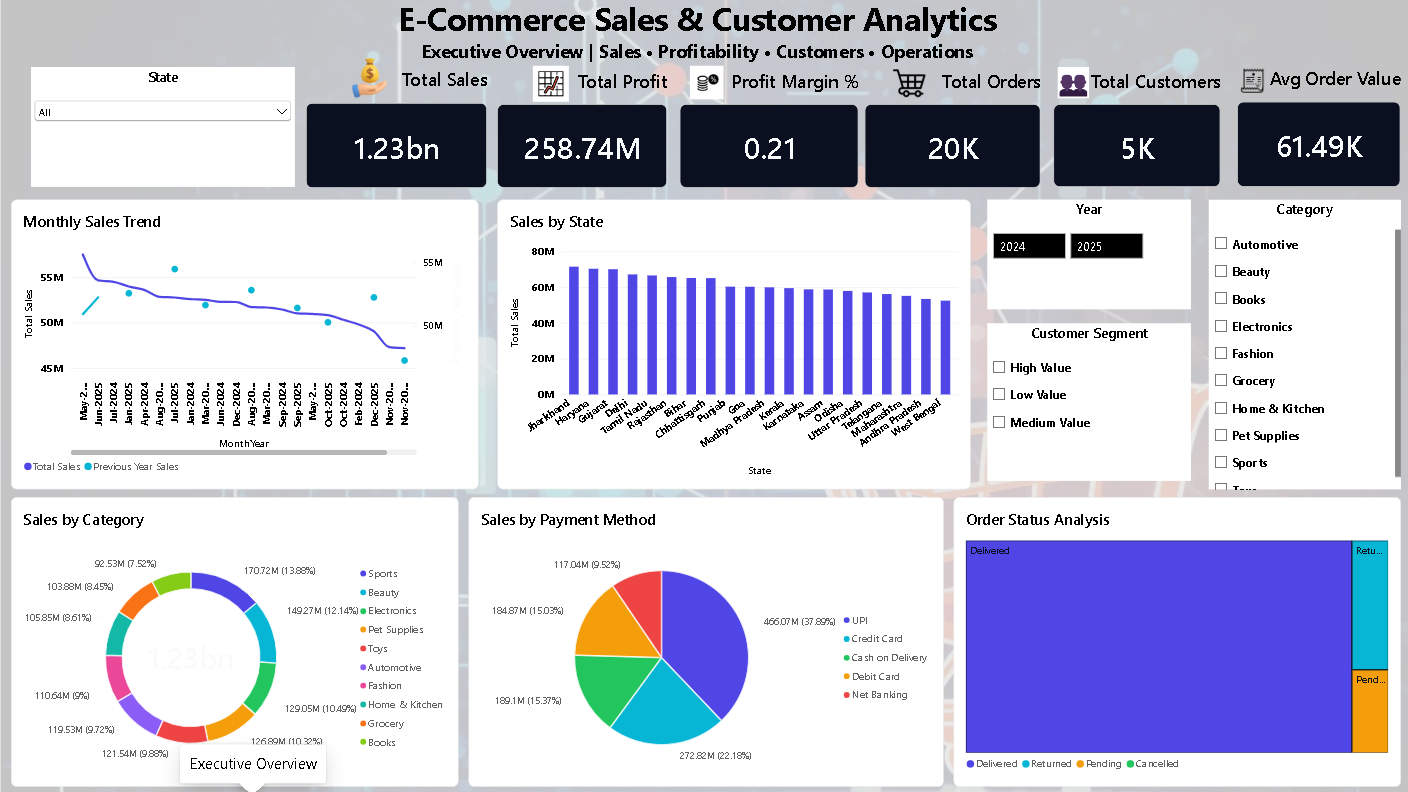

This screenshot's page, from the dashboard's own definition file:
{"tool":"powerbi","page":{"name":"Executive Overview","canvas":[1920,1080],"ordinal":0},"visuals":[{"type":"textbox","box":[116.9,0,1653.1,130.2],"z":0},{"type":"cardVisual","title":"Total Sales","fields":{"Data":["FactSales.Total Sales"]},"box":[413.3,94.8,245.6,164.3],"z":1000},{"type":"cardVisual","title":"Total Profit","fields":{"Data":["FactSales.Total Profit"]},"box":[672.4,96.5,230.3,162.6],"z":2000},{"type":"cardVisual","title":"Avg Order Value","fields":{"Data":["FactSales.Average Order Value"]},"box":[1675.1,93.2,221.9,164.3],"z":3000},{"type":"cardVisual","title":"Total Orders","fields":{"Data":["FactSales.Total Orders"]},"box":[1170.4,96.5,238.8,162.6],"z":4000},{"type":"cardVisual","title":"Profit Margin %","fields":{"Data":["FactSales.Profit Margin %"]},"box":[919.7,96.5,242.2,162.6],"z":5000},{"type":"cardVisual","title":"Total Customers","fields":{"Data":["FactSales.Total Customers"]},"box":[1426.1,96.5,227,160.9],"z":6000},{"type":"lineChart","title":"Monthly Sales Trend","fields":{"Category":["DimDate.MonthYear"],"Y":["FactSales.Total Sales"],"Y2":["FactSales.Previous Year Sales"]},"box":[13.5,274.4,633.5,392.9],"z":7000},{"type":"clusteredColumnChart","title":"Sales by State","fields":{"Category":["DimCustomer.State"],"Y":["FactSales.Total Sales"]},"box":[672.4,274.4,641.9,392.9],"z":8000},{"type":"donutChart","title":"Sales by Category","fields":{"Category":["DimProduct.Category"],"Y":["FactSales.Total Sales"]},"box":[13.5,677.5,606.4,392.9],"z":9000},{"type":"pieChart","title":"Sales by Payment Method","fields":{"Category":["DimPayment.PaymentMethod"],"Y":["FactSales.Total Sales"]},"box":[633.5,677.5,643.6,392.9],"z":10000},{"type":"treemap","title":"Order Status Analysis","fields":{"Group":["FactSales.OrderStatus"],"Values":["FactSales.Total Sales"]},"box":[1290.6,677.5,606.4,392.9],"z":11000},{"type":"slicer","title":"Year ","fields":{"Values":["DimDate.Year"]},"box":[1336.4,274.4,276.1,149],"z":12000},{"type":"slicer","title":"Category","fields":{"Values":["DimProduct.Category"]},"box":[1636.1,274.4,260.8,392.9],"z":13000},{"type":"slicer","title":"State","fields":{"Values":["DimCustomer.State"]},"box":[40.6,94.8,357.4,162.6],"z":14000},{"type":"slicer","title":"Customer Segment","fields":{"Values":["DimCustomer.Segment"]},"box":[1336.4,442.1,276.1,213.4],"z":15000},{"type":"image","box":[426.8,76.2,145.7,69.4],"z":16000},{"type":"image","box":[619.9,93.2,250.7,49.1],"z":17000},{"type":"image","box":[806.2,93.2,299.8,45.7],"z":18000},{"type":"image","box":[1080.6,94.8,299.8,44],"z":19000},{"type":"image","box":[1312.6,94.8,281.2,42.3],"z":20000},{"type":"image","box":[1551.5,93.2,287.9,40.6],"z":21000}]}

Visuals, with their boxes in screenshot pixels (x1, y1, x2, y2), scaled from the page's 1920x1080 canvas onto the 1408x792 screenshot:
textbox: box=[86, 0, 1298, 95]
"Total Sales" cardVisual: box=[303, 70, 483, 190]
"Total Profit" cardVisual: box=[493, 71, 662, 190]
"Avg Order Value" cardVisual: box=[1228, 68, 1391, 189]
"Total Orders" cardVisual: box=[858, 71, 1033, 190]
"Profit Margin %" cardVisual: box=[674, 71, 852, 190]
"Total Customers" cardVisual: box=[1046, 71, 1212, 189]
"Monthly Sales Trend" lineChart: box=[10, 201, 474, 489]
"Sales by State" clusteredColumnChart: box=[493, 201, 964, 489]
"Sales by Category" donutChart: box=[10, 497, 455, 785]
"Sales by Payment Method" pieChart: box=[465, 497, 937, 785]
"Order Status Analysis" treemap: box=[946, 497, 1391, 785]
"Year " slicer: box=[980, 201, 1182, 310]
"Category" slicer: box=[1200, 201, 1391, 489]
"State" slicer: box=[30, 70, 292, 189]
"Customer Segment" slicer: box=[980, 324, 1182, 481]
image: box=[313, 56, 420, 107]
image: box=[455, 68, 638, 104]
image: box=[591, 68, 811, 102]
image: box=[792, 70, 1012, 102]
image: box=[963, 70, 1169, 101]
image: box=[1138, 68, 1349, 98]
